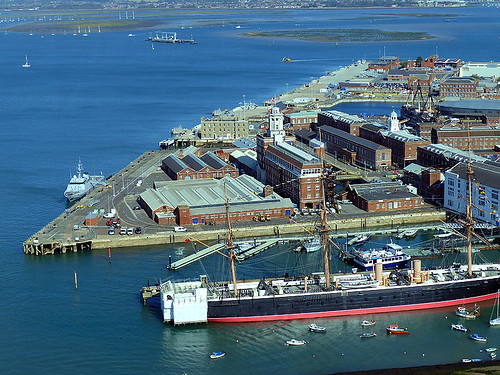boat: (159, 253, 500, 345), (56, 164, 104, 207)
building: (150, 174, 288, 217), (264, 136, 324, 208), (312, 121, 394, 170), (439, 163, 500, 226), (415, 146, 469, 190), (353, 182, 423, 212), (436, 124, 500, 153), (169, 153, 236, 177), (438, 78, 478, 106)
sea: (1, 30, 286, 213)
